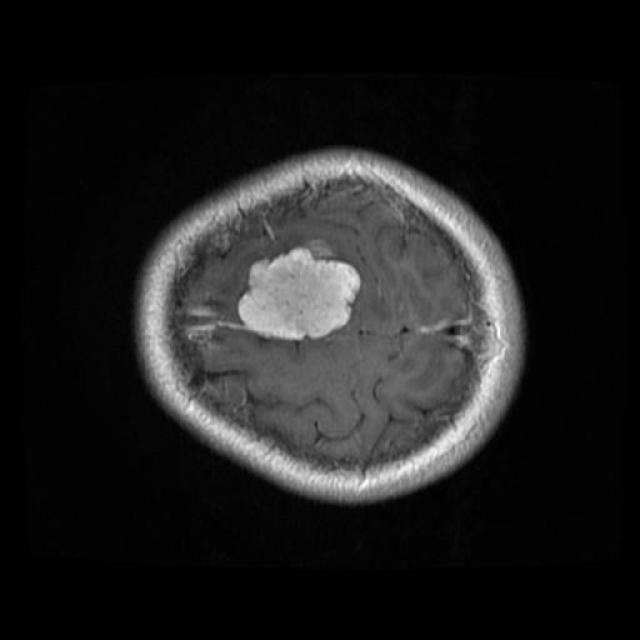Meningioma: (238, 248, 360, 341)
